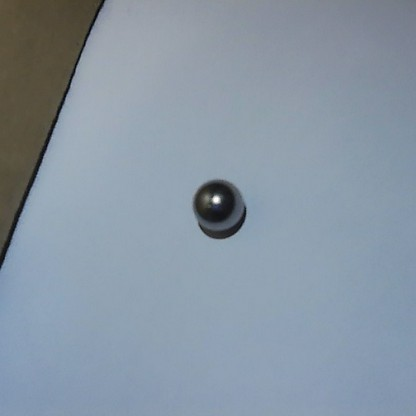ironball: (187, 176, 249, 234)
